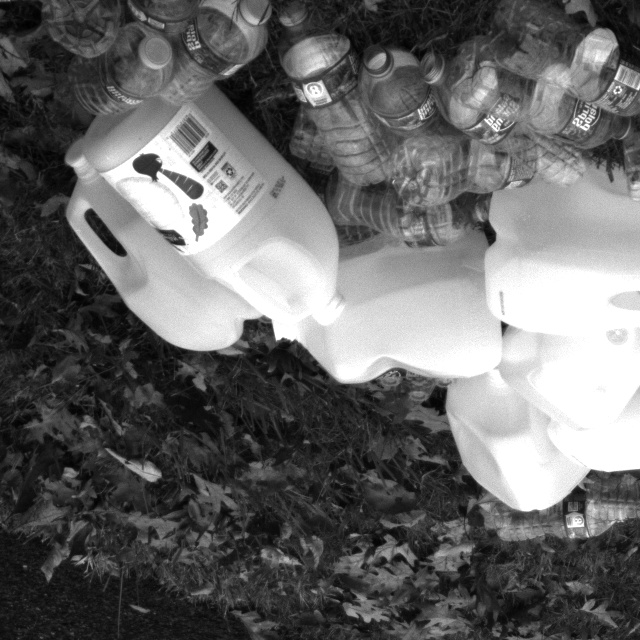bottle: (110, 1, 308, 120), (486, 0, 640, 133), (334, 39, 462, 166), (473, 487, 621, 563), (589, 116, 640, 208)
can: (83, 57, 362, 330), (50, 151, 260, 366), (428, 349, 617, 530), (265, 251, 507, 392), (481, 166, 640, 321), (507, 296, 640, 428), (534, 346, 640, 471)
